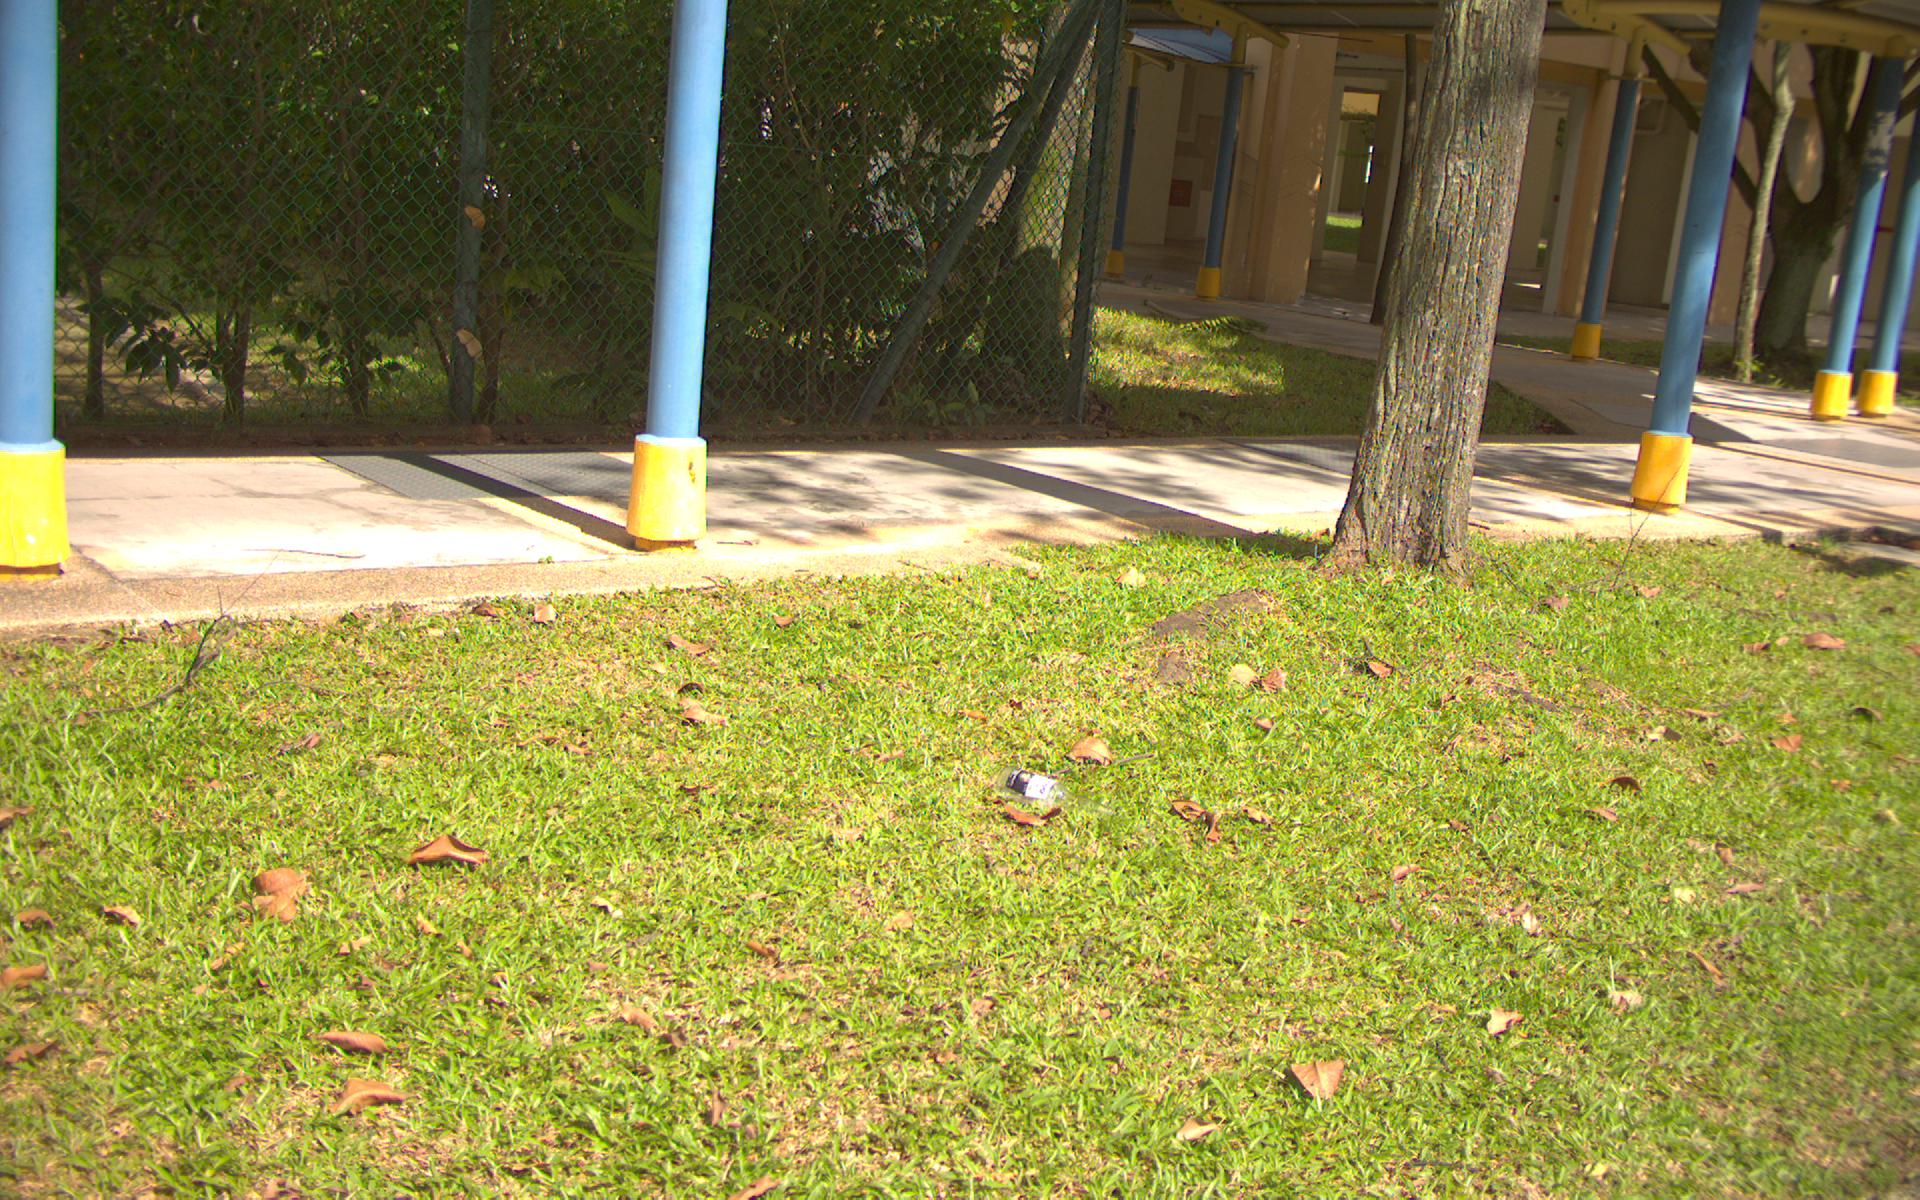pathway_low: (58, 453, 1920, 534)
road_turf_low: (28, 637, 1920, 1200)
